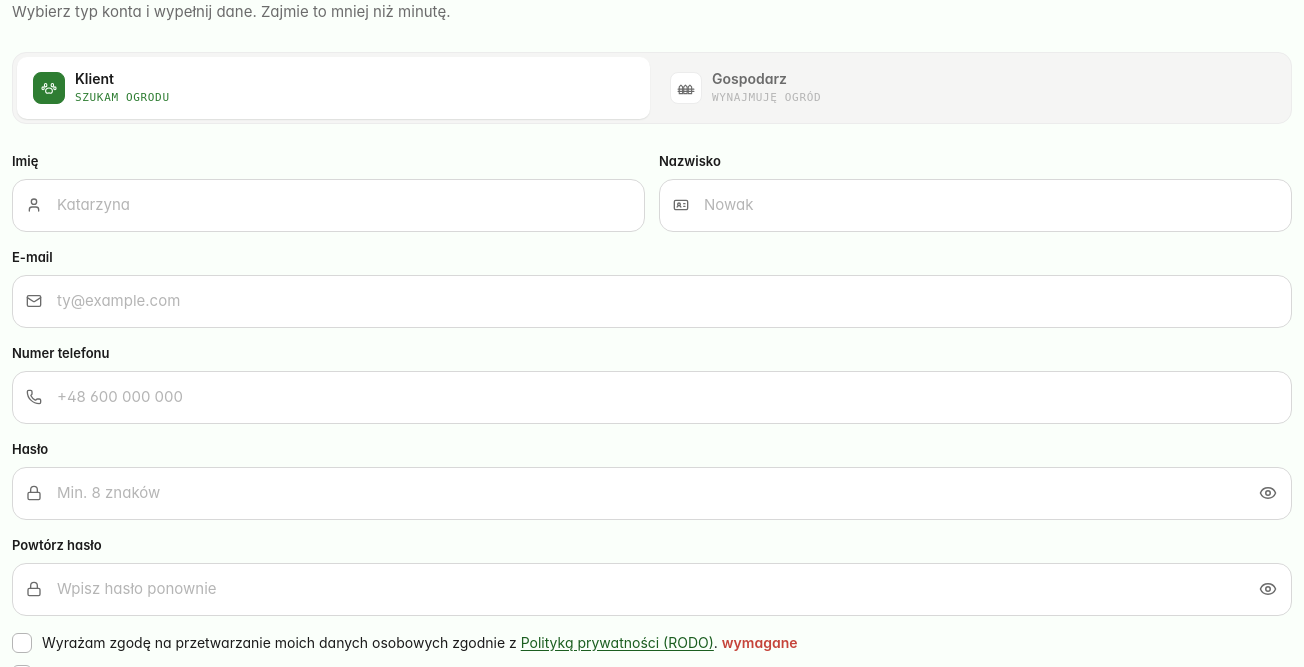
Test: RegisterPage › enables the CTA only once both required consents are checked
Click the checkbox labelled "przetwarzanie moich danych": click(405, 643) [12, 633, 798, 653]
(page scrolled)
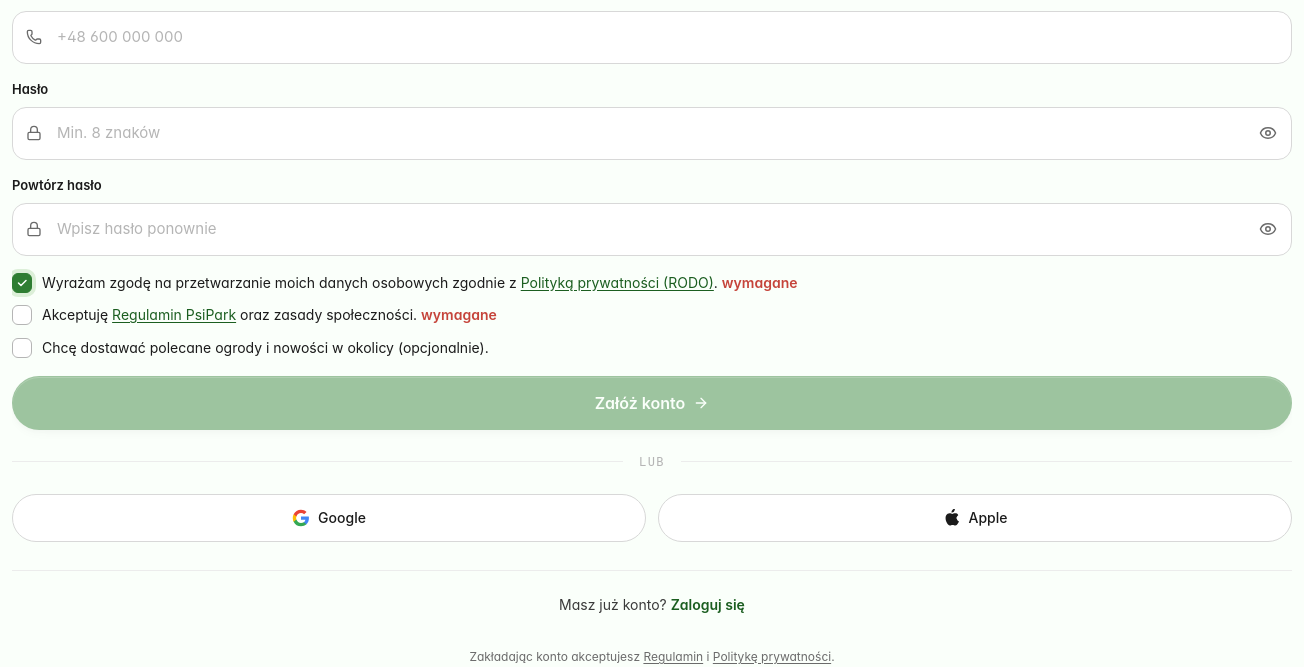
Check: the button "Załóż konto" is disabled, box [12, 376, 1292, 430]
Click the checkbox labelled "Akceptuję": click(254, 315) [12, 305, 497, 325]
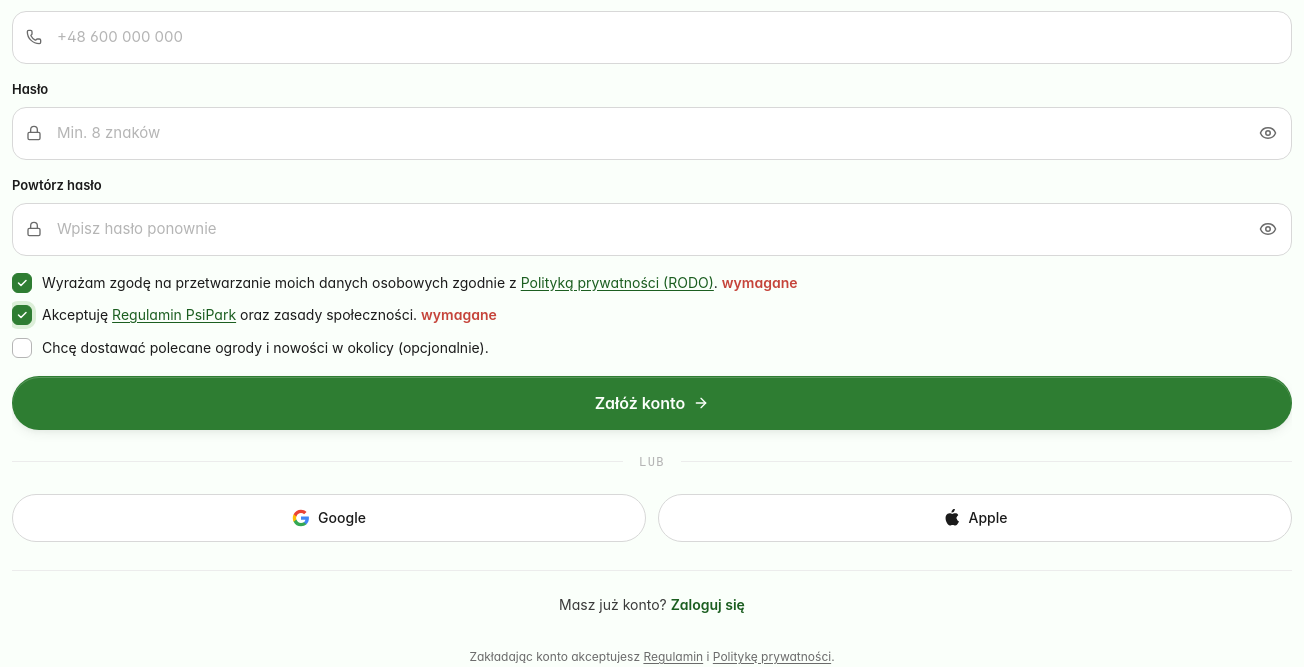
Check: the button "Załóż konto" is enabled, box [12, 376, 1292, 430]
